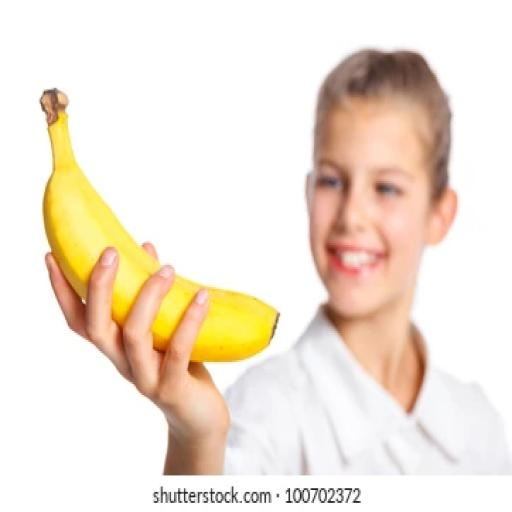banana: (40, 90, 159, 325)
